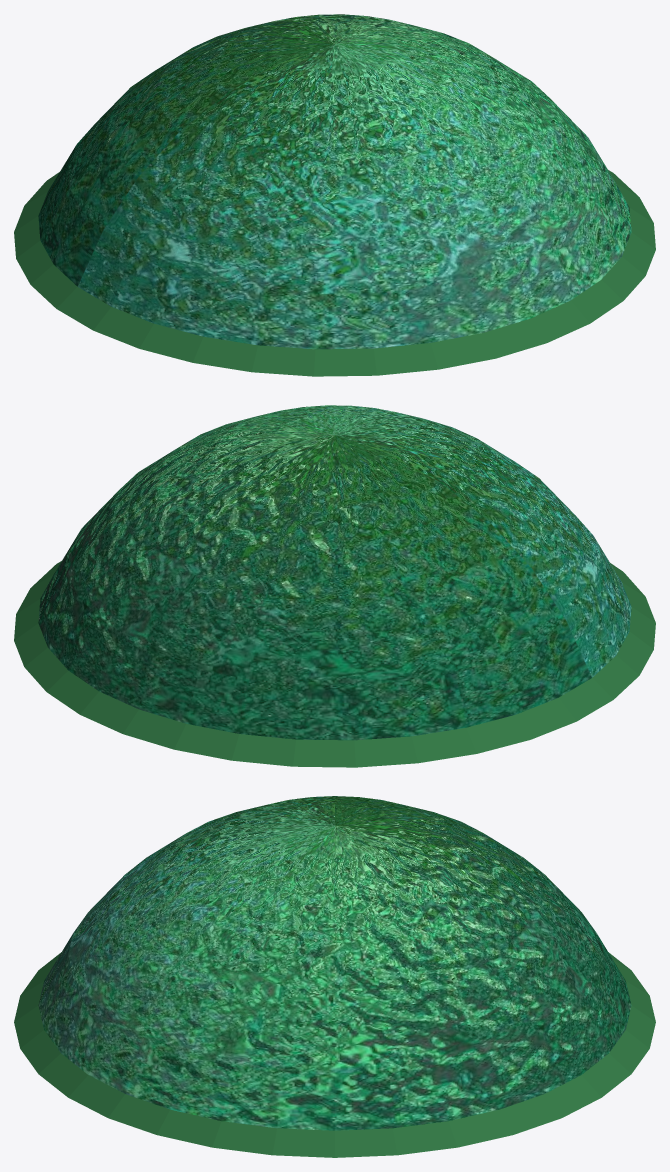
File: ufoGlass.obj
The picture shows the model from 3 angles, top to bottom: view 1: azimuth 30°, elevation 25°; view 2: azimuth 150°, elevation 25°; view 3: azimuth 270°, elevation 25°; orthographic projection.
Parts seen in each view (by area): view 1: cockpit_Sphere.001; view 2: cockpit_Sphere.001; view 3: cockpit_Sphere.001.
Part boxes in pixels (x1,y1,x2,y2): cockpit_Sphere.001: [14, 14, 655, 376]; cockpit_Sphere.001: [14, 405, 655, 767]; cockpit_Sphere.001: [14, 796, 655, 1157].
Size of the model in its own units: 2 by 0.6753 by 2.
1 material, 1 textured.
